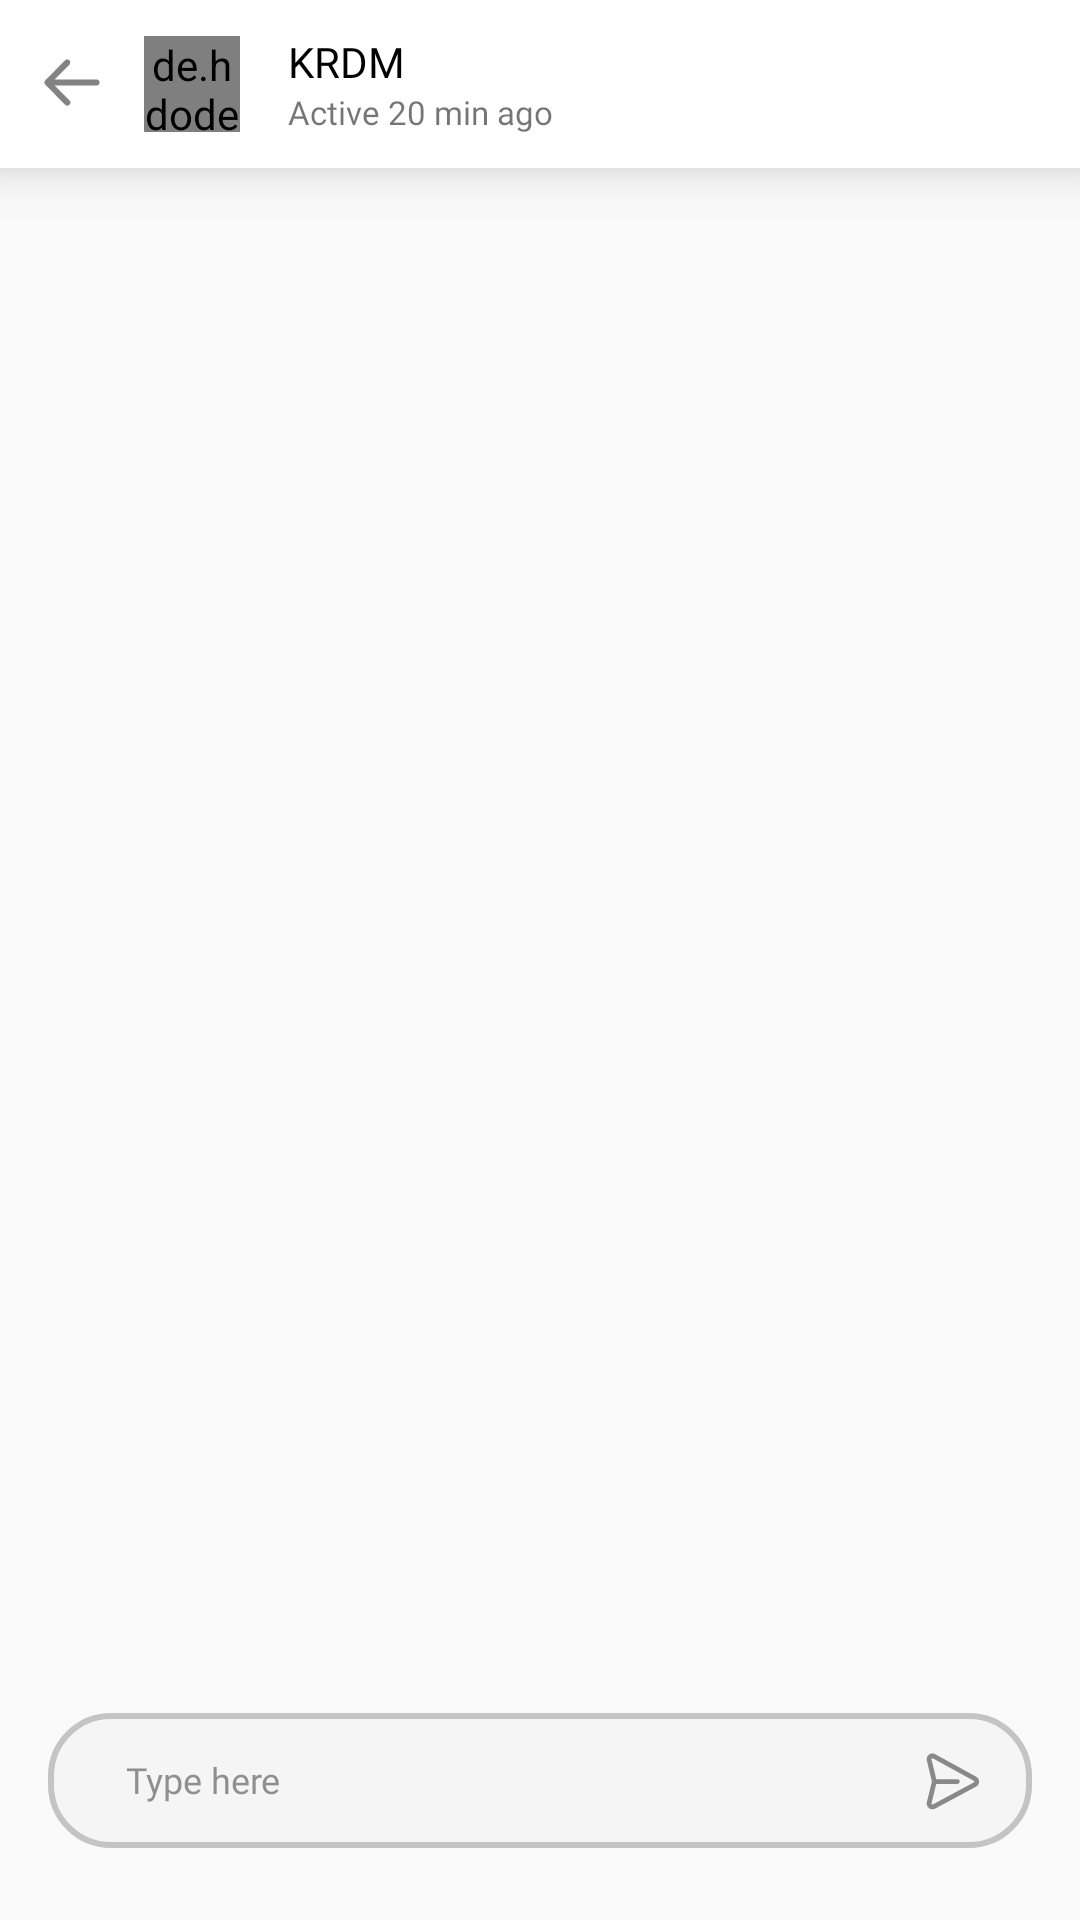

Locate icon controls on the screen. Image size 1080 x 1920, boxes as (x1, y1, x2, y2).
back: (44, 59, 100, 106)
send: (926, 1753, 979, 1810)
